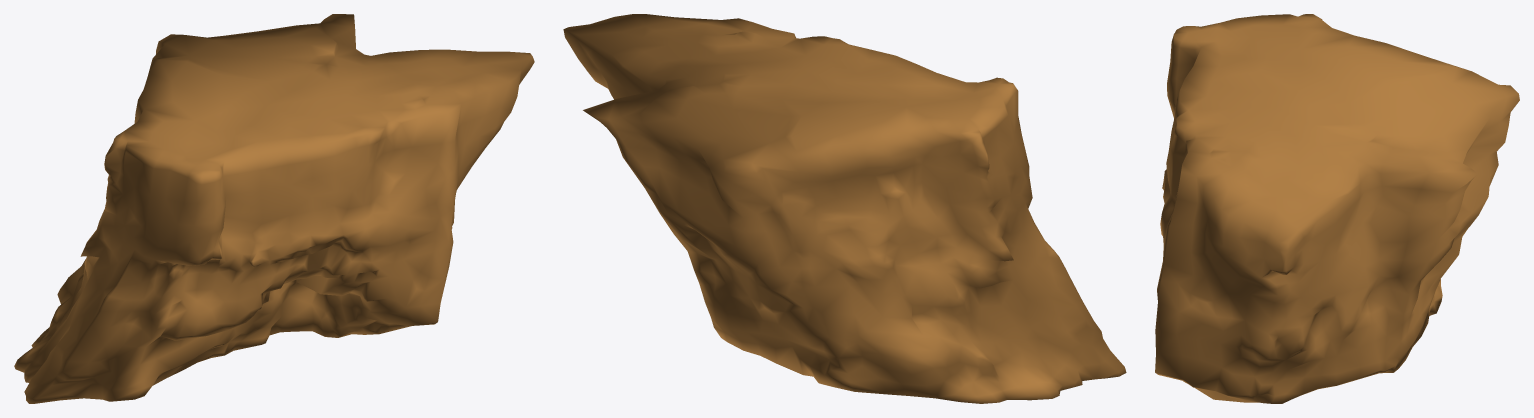
Rendered from MSH_Rocks_Cliff_01_b.FBX.
The picture shows the model from 3 angles, left to right: view 1: azimuth 30°, elevation 25°; view 2: azimuth 150°, elevation 25°; view 3: azimuth 270°, elevation 25°; orthographic projection. The views are drawn at different scales.
Visible parts, largest first — view 1: MESH_LOD0; view 2: MESH_LOD0; view 3: MESH_LOD0.
Part boxes in pixels (bbox=[...]): MESH_LOD0: bbox=[14, 14, 534, 403]; MESH_LOD0: bbox=[563, 14, 1126, 403]; MESH_LOD0: bbox=[1155, 14, 1519, 403].
Size of what is drawn, in the model's own units: 345 by 149 by 186.
